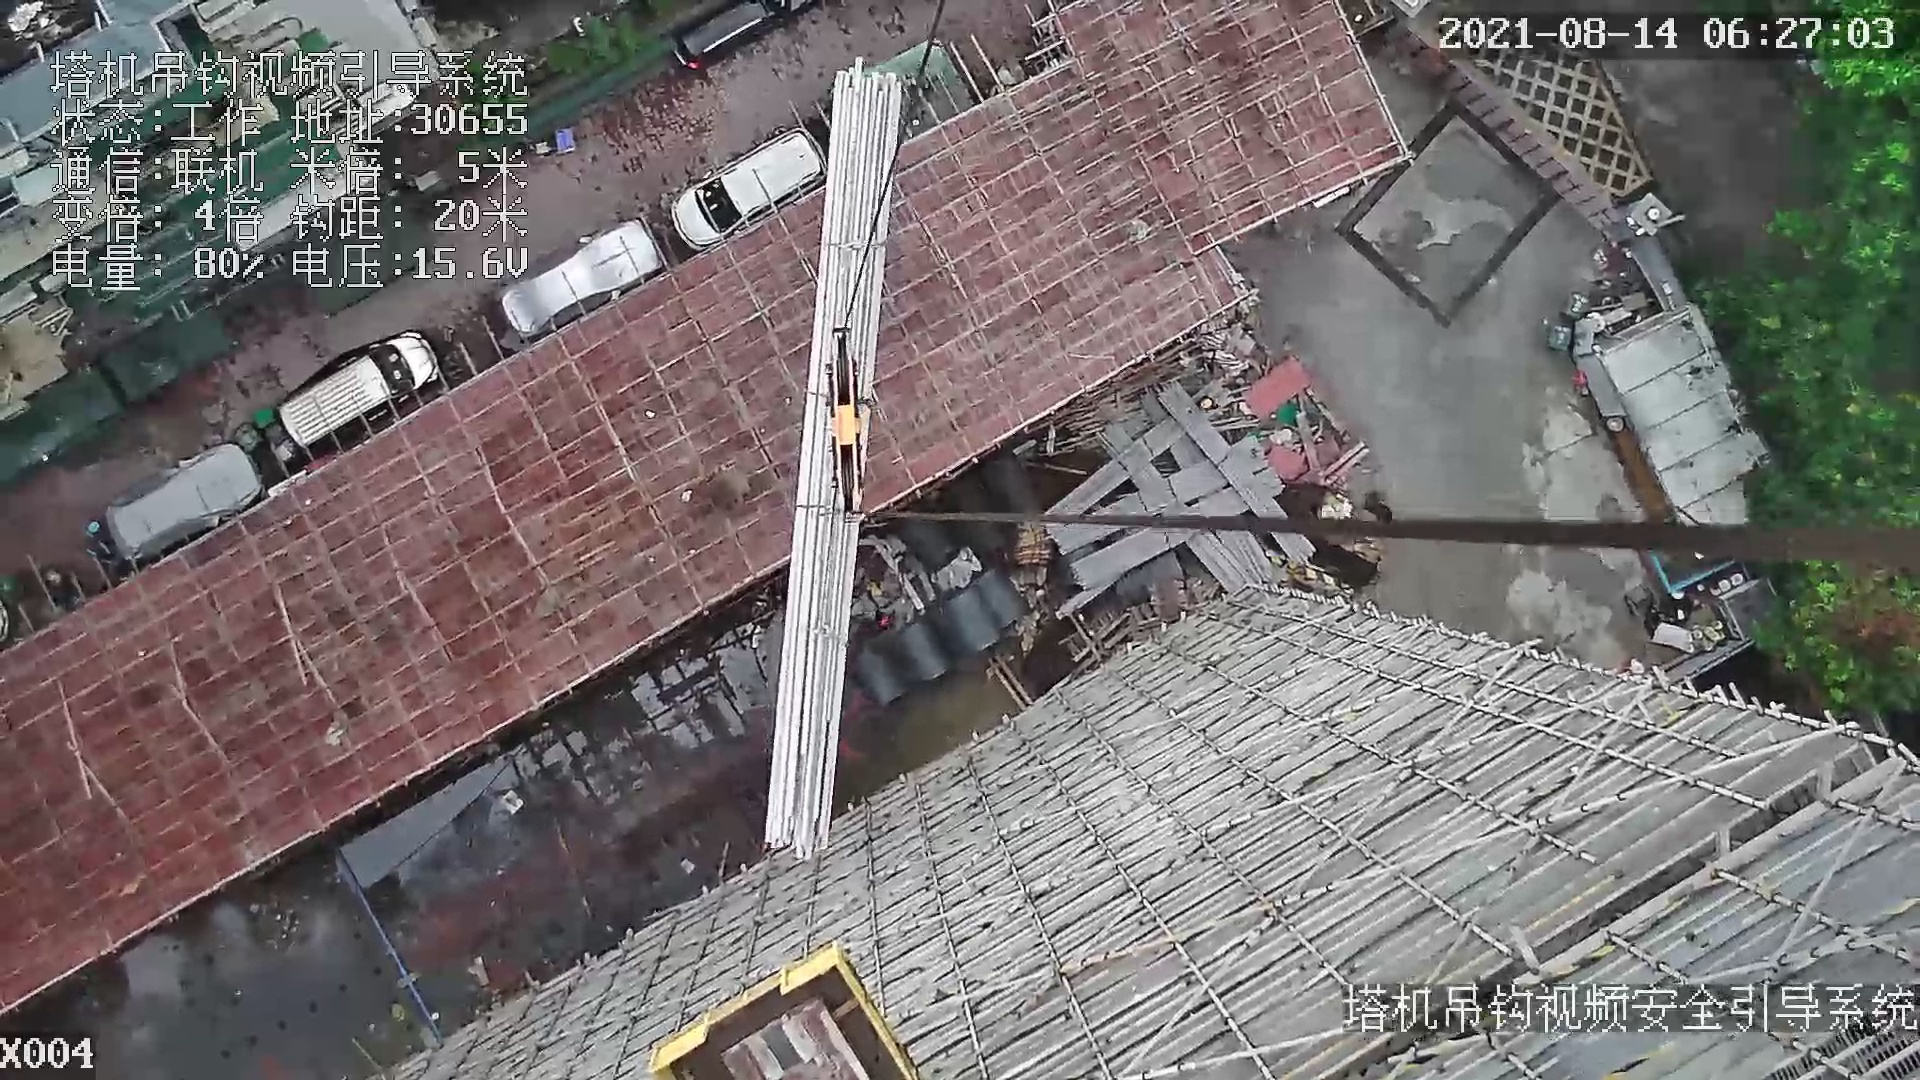hook: (818, 319, 880, 524)
